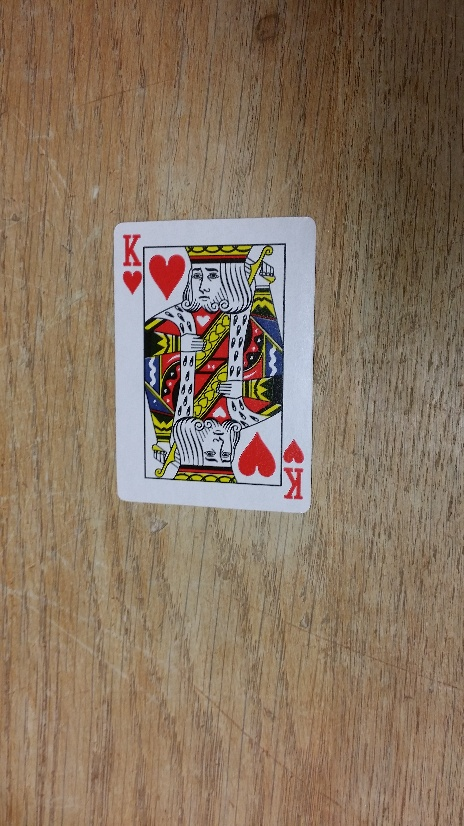Hk: (116, 228, 144, 298), (282, 437, 307, 504)
